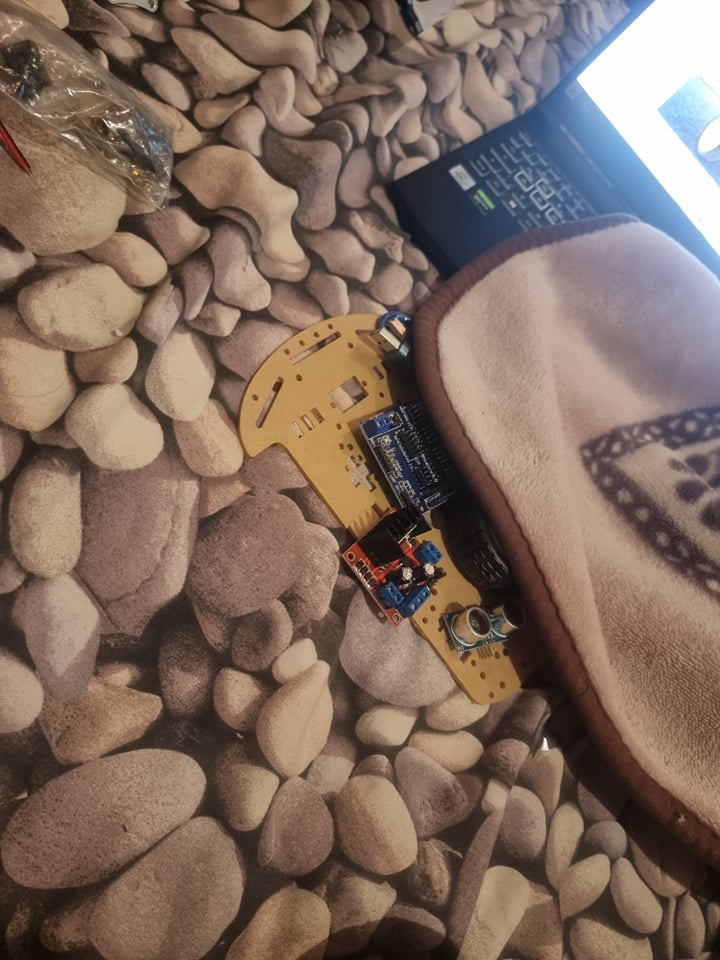5V EXPANSION: (357, 400, 462, 512)
MOTOR: (338, 508, 450, 631)
SENSOR: (440, 605, 533, 655)
